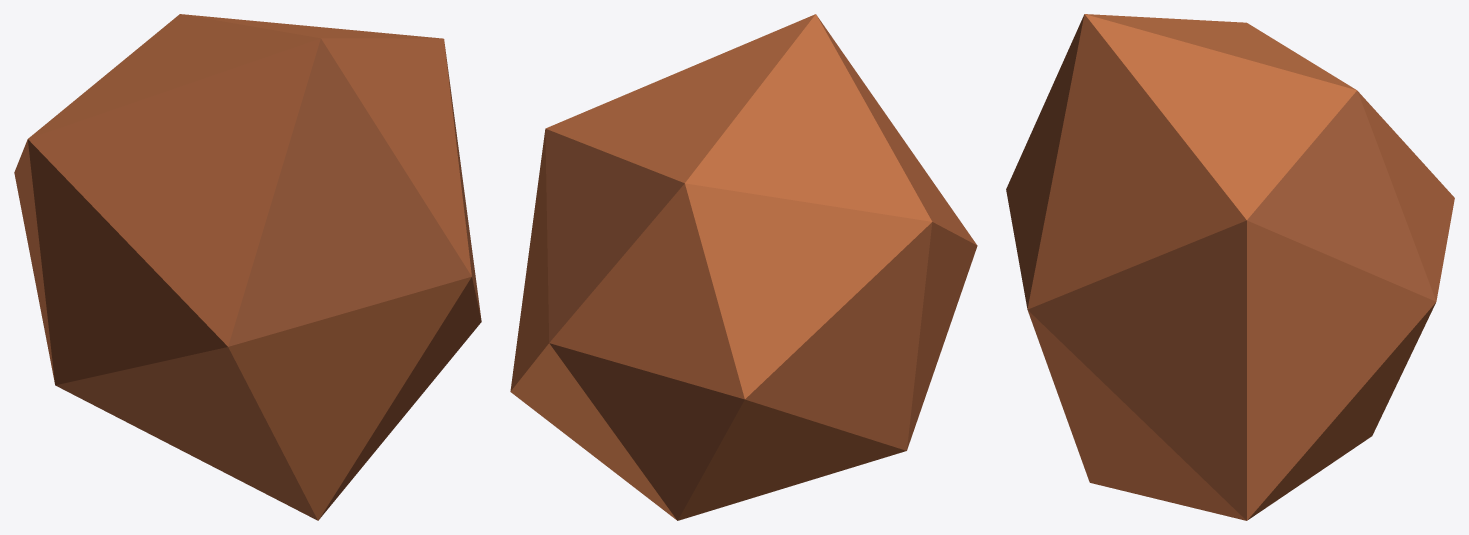
File: SM_Rock_3.obj
3 renders of one model, left to right at view 1: azimuth 30°, elevation 25°; view 2: azimuth 150°, elevation 25°; view 3: azimuth 270°, elevation 25°, orthographic. The views are drawn at different scales.
Visible parts, largest first — view 1: SM_Rock_3; view 2: SM_Rock_3; view 3: SM_Rock_3.
Part boxes in pixels (x1,y1,x2,y2): SM_Rock_3: (14,14,481,520); SM_Rock_3: (510,14,977,520); SM_Rock_3: (1006,14,1454,520).
Bounding box in the file's own units: 1.92 × 1.96 × 1.7.
1 material, 1 textured.
